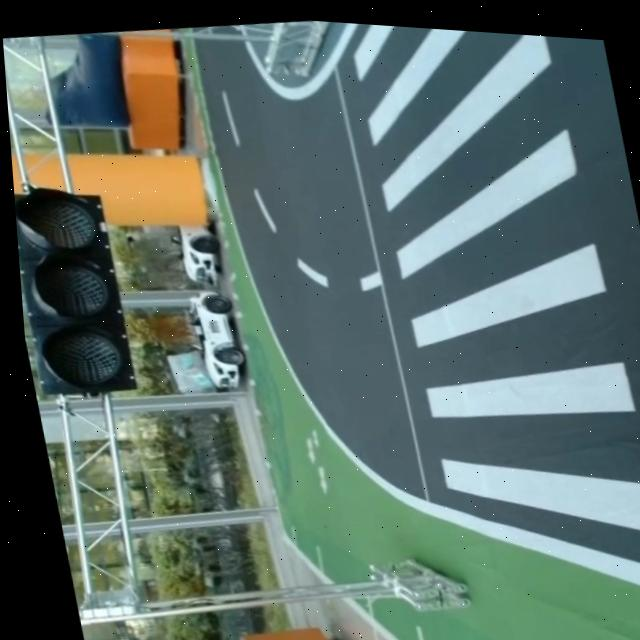traffic-light: (13, 173, 143, 414)
